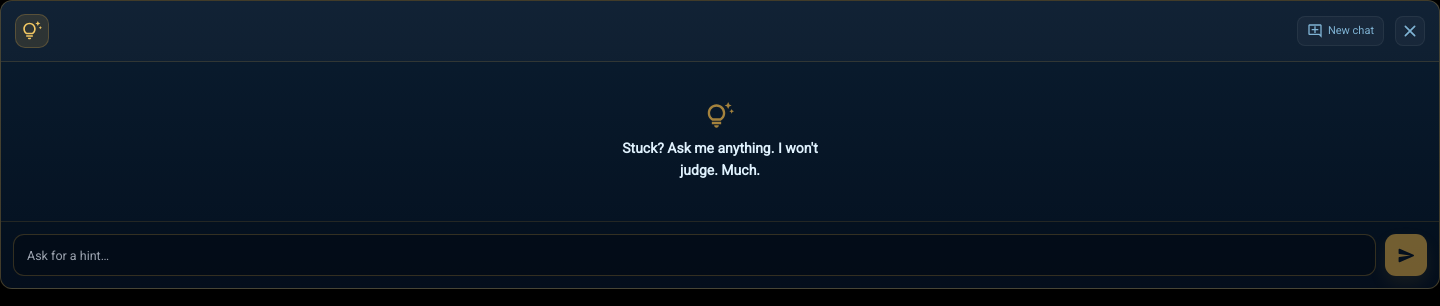
Test: HintPanel Component › uses one consistent UI font throughout the hint panel
Type "what now?" into the field with test id "hint-input" at (694, 255), box [13,234,1376,276]
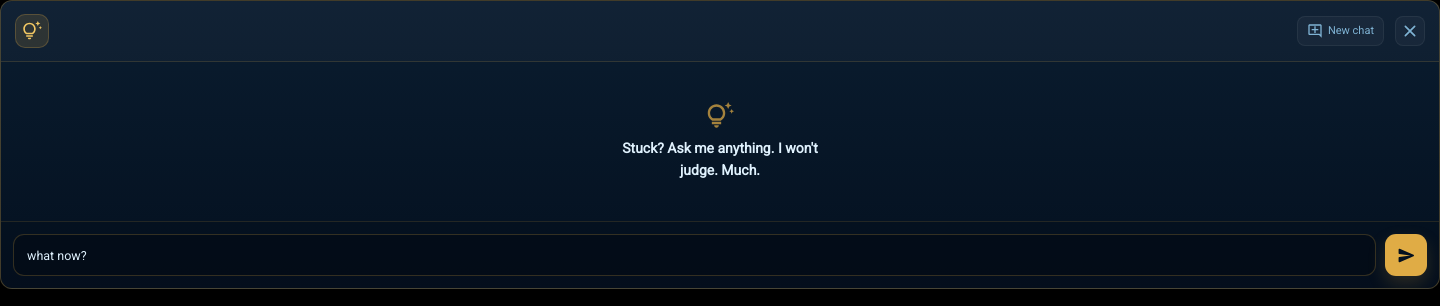
Click the button with test id "hint-send" at (1406, 255), box [1385,234,1427,276]
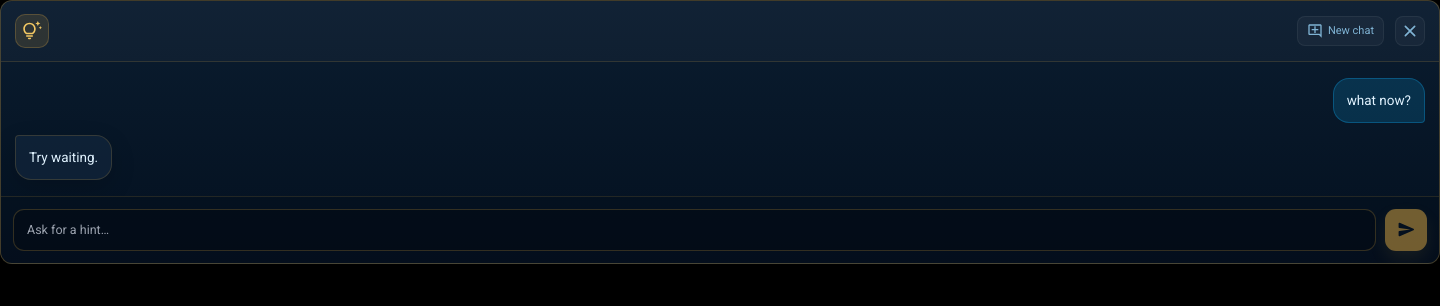
Expected: the text "Try waiting." is shown, [15,135,112,180]
